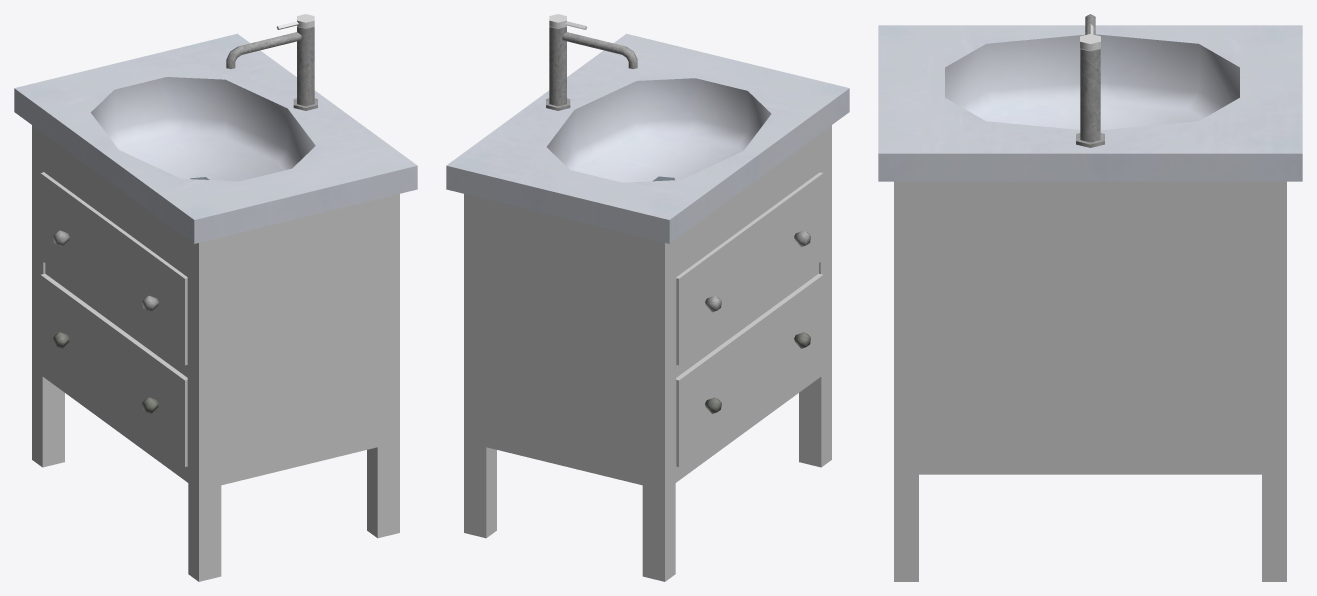
The model's file is Washbasin.glb.
3 views of the same model, side by side, from view 1: azimuth 30°, elevation 25°; view 2: azimuth 150°, elevation 25°; view 3: azimuth 270°, elevation 25° (orthographic). The views are drawn at different scales.
Visible parts, largest first — view 1: Washbasin, Washbasin_drawer_03.001, Washbasin_drawer_02.001; view 2: Washbasin, Washbasin_drawer_03.001, Washbasin_drawer_02.001; view 3: Washbasin.
Boxes of the visible parts, x1=… form: Washbasin: x1=14, y1=26, x2=417, y2=581; Washbasin_drawer_03.001: x1=40, y1=273, x2=187, y2=466; Washbasin_drawer_02.001: x1=40, y1=172, x2=187, y2=365; Washbasin: x1=446, y1=26, x2=849, y2=581; Washbasin_drawer_03.001: x1=676, y1=273, x2=823, y2=466; Washbasin_drawer_02.001: x1=676, y1=172, x2=823, y2=365; Washbasin: x1=878, y1=14, x2=1302, y2=581.
Bounding box in the file's own units: 0.7916 × 1.52 × 1.09.
5 materials, 4 textured.
